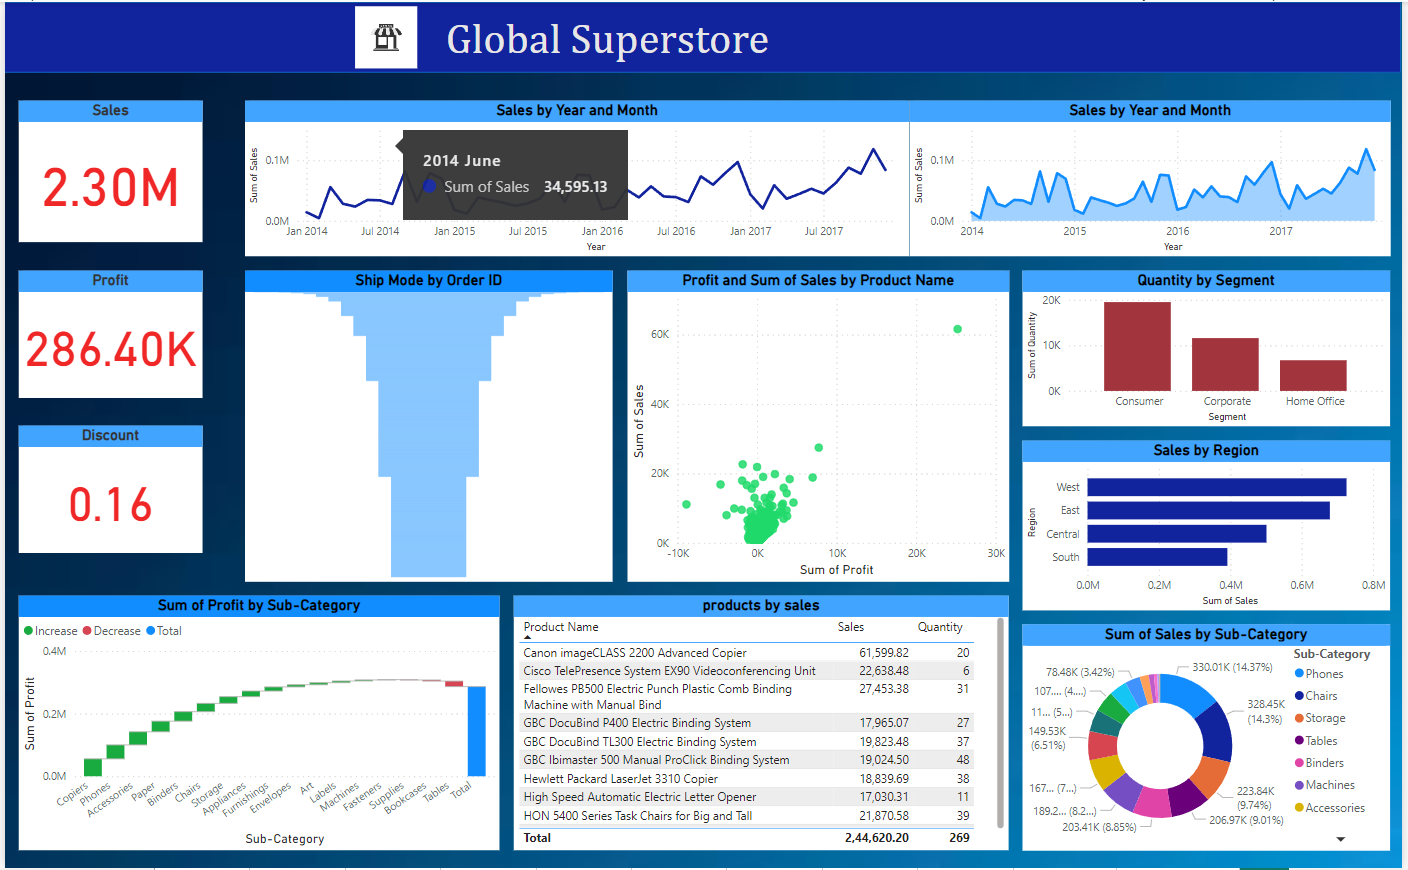

This screenshot's page, from the dashboard's own definition file:
{"tool":"powerbi","page":{"name":"dashboard","canvas":[1580,980],"ordinal":10},"visuals":[{"type":"shape","box":[-4,0,1584,80],"z":0},{"type":"textbox","box":[480,0,448,96],"z":1000},{"type":"image","box":[384,0,96,80],"z":2000},{"type":"lineChart","title":"Sales by Year and Month","fields":{"Y":["Sum(Orders.Sales)"],"Category":["Orders.Order Date.Variation.Date Hierarchy.Year","Orders.Order Date.Variation.Date Hierarchy.Month"]},"box":[272,112,752,176],"z":3000},{"type":"barChart","title":"Sales by Region","fields":{"Category":["Orders.Region"],"Y":["Sum(Orders.Sales)"]},"box":[1152,496,416,192],"z":4000},{"type":"donutChart","fields":{"Y":["Sum(Orders.Sales)"],"Category":["Orders.Sub-Category"]},"box":[1152,704,416,256],"z":5000},{"type":"columnChart","title":" Quantity by Segment","fields":{"Category":["Orders.Segment"],"Y":["Sum(Orders.Quantity)"]},"box":[1152,304,416,176],"z":6000},{"type":"card","title":"Sales","fields":{"Values":["Sum(Orders.Sales)"]},"box":[16,112,208,160],"z":7000},{"type":"card","title":"Profit","fields":{"Values":["Sum(Orders.Profit)"]},"box":[16,304,208,144],"z":8000},{"type":"card","title":"Discount","fields":{"Values":["Avg(Orders.Discount)"]},"box":[16,480,208,144],"z":9000},{"type":"scatterChart","title":" Profit and Sum of Sales by Product Name","fields":{"X":["Sum(Orders.Profit)"],"Y":["Sum(Orders.Sales)"],"Category":["Orders.Product Name"]},"box":[704,304,432,352],"z":10000},{"type":"funnel","fields":{"Category":["Orders.Order ID"],"Y":["CountNonNull(Orders.Ship Mode)"]},"box":[272,304,416,352],"z":11000},{"type":"stackedAreaChart","title":"Sales by Year and Month","fields":{"Y":["Sum(Orders.Sales)"],"Category":["Orders.Order Date.Variation.Date Hierarchy.Year","Orders.Order Date.Variation.Date Hierarchy.Month"]},"box":[1024,112,544,176],"z":12000},{"type":"tableEx","title":"products by sales","fields":{"Values":["Orders.Product Name","Sum(Orders.Sales)","Sum(Orders.Quantity)"]},"box":[576,672,560,288],"z":13000},{"type":"waterfallChart","fields":{"Category":["Orders.Sub-Category"],"Y":["Sum(Orders.Profit)"]},"box":[16,672,544,288],"z":14000}]}

Visuals, with their boxes in screenshot pixels (x1, y1, x2, y2), scaled from the page's 1580x980 canvas onto the 1408x870 screenshot:
shape: 0, 0, 1407, 71
textbox: 428, 0, 827, 85
image: 342, 0, 428, 71
"Sales by Year and Month" lineChart: 242, 99, 913, 256
"Sales by Region" barChart: 1027, 440, 1397, 611
donutChart - Sum(Orders.Sales) x Orders.Sub-Category: 1027, 625, 1397, 852
" Quantity by Segment" columnChart: 1027, 270, 1397, 426
"Sales" card: 14, 99, 200, 241
"Profit" card: 14, 270, 200, 398
"Discount" card: 14, 426, 200, 554
" Profit and Sum of Sales by Product Name" scatterChart: 627, 270, 1012, 582
funnel - Orders.Order ID x CountNonNull(Orders.Ship Mode): 242, 270, 613, 582
"Sales by Year and Month" stackedAreaChart: 913, 99, 1397, 256
"products by sales" tableEx: 513, 597, 1012, 852
waterfallChart - Orders.Sub-Category x Sum(Orders.Profit): 14, 597, 499, 852
